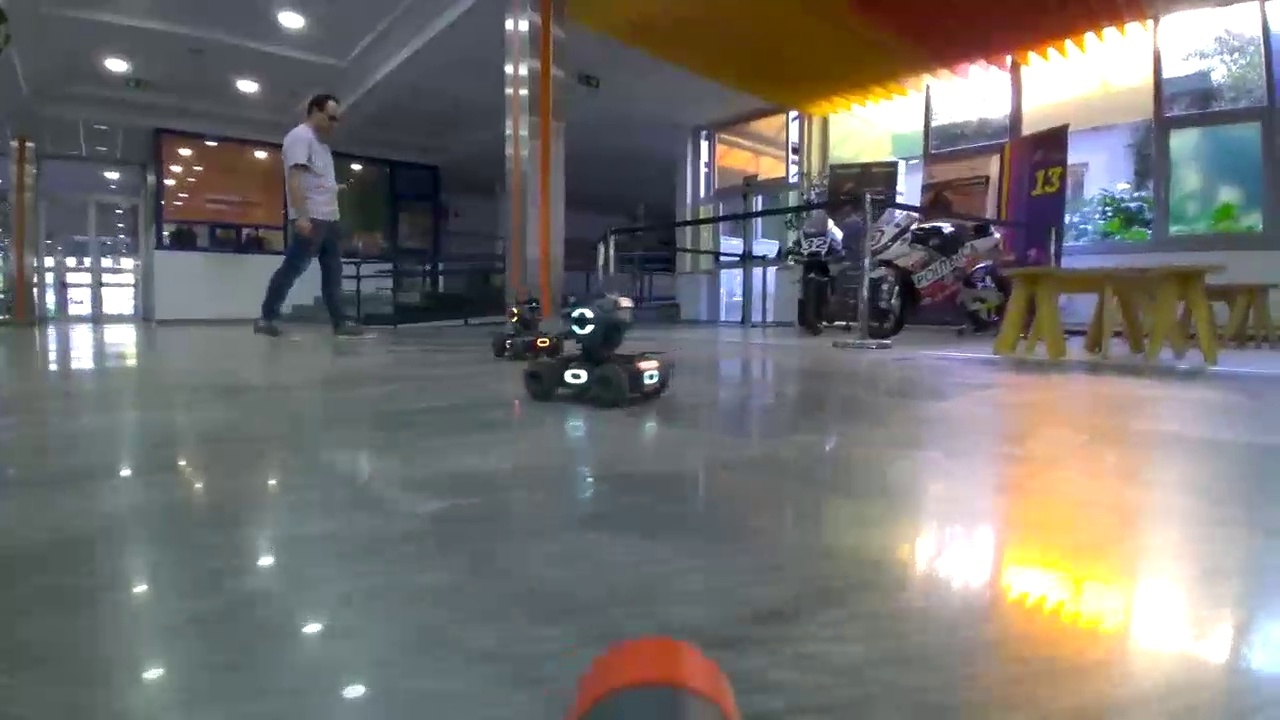robot: (523, 290, 676, 407), (493, 296, 562, 358)
